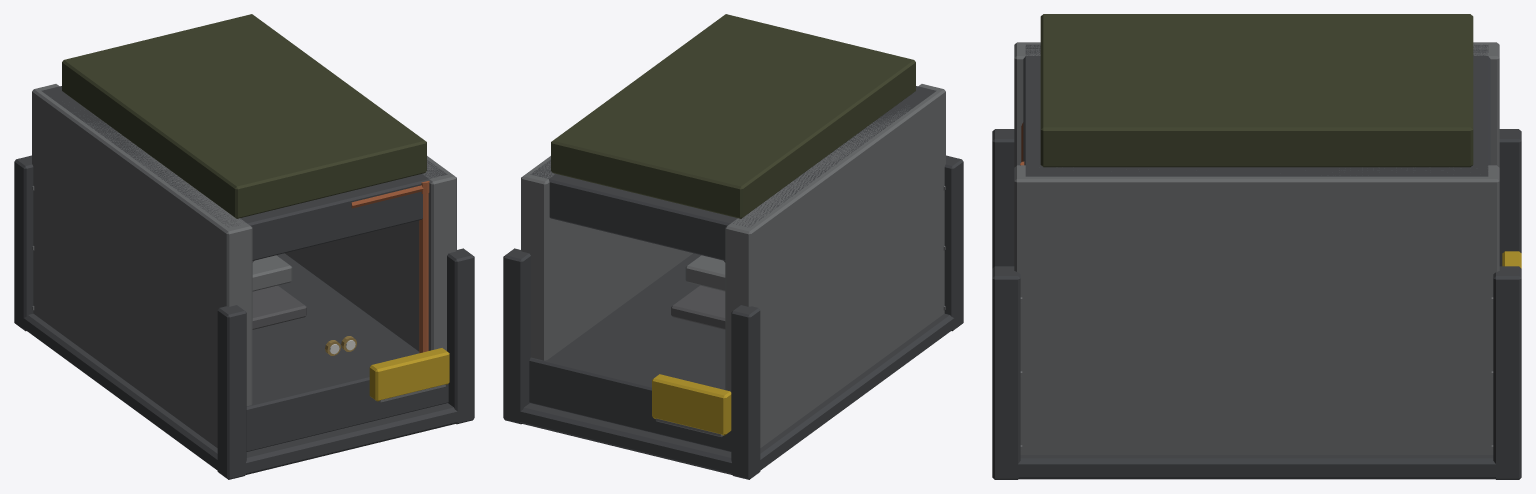
The model's file is press_mk1.glb.
3 views of the same model, side by side, from view 1: azimuth 30°, elevation 25°; view 2: azimuth 150°, elevation 25°; view 3: azimuth 270°, elevation 25° (orthographic). The views are drawn at different scales.
Visible parts, largest first — view 1: press_mk1_WeldedSteel, press_mk1_CastIron, press_mk1_OliveDrab, press_mk1_HazardYellow, press_mk1_Copper, press_mk1_OiledSteel; view 2: press_mk1_WeldedSteel, press_mk1_CastIron, press_mk1_OliveDrab, press_mk1_HazardYellow, press_mk1_OiledSteel; view 3: press_mk1_WeldedSteel, press_mk1_OliveDrab, press_mk1_CastIron.
Part boxes in pixels (x1=…): press_mk1_WeldedSteel: x1=32, y1=84, x2=456, y2=447; press_mk1_CastIron: x1=14, y1=86, x2=474, y2=479; press_mk1_OliveDrab: x1=62, y1=14, x2=426, y2=218; press_mk1_HazardYellow: x1=369, y1=348, x2=449, y2=401; press_mk1_Copper: x1=351, y1=181, x2=429, y2=353; press_mk1_OiledSteel: x1=252, y1=260, x2=306, y2=329; press_mk1_WeldedSteel: x1=521, y1=84, x2=945, y2=447; press_mk1_CastIron: x1=503, y1=86, x2=963, y2=479; press_mk1_OliveDrab: x1=551, y1=14, x2=915, y2=218; press_mk1_HazardYellow: x1=652, y1=374, x2=731, y2=435; press_mk1_OiledSteel: x1=671, y1=260, x2=725, y2=329; press_mk1_WeldedSteel: x1=1014, y1=42, x2=1499, y2=454; press_mk1_OliveDrab: x1=1040, y1=14, x2=1473, y2=167; press_mk1_CastIron: x1=992, y1=44, x2=1521, y2=479.
Bounding box in the file's own units: 4 × 4.2 × 6.
